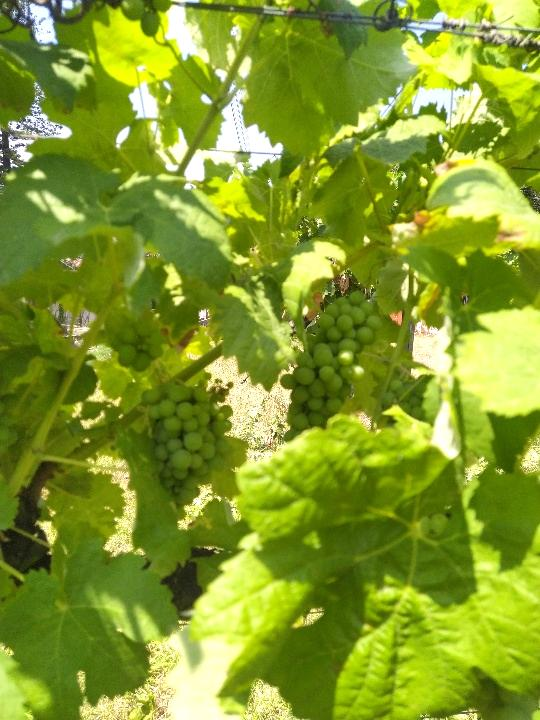grape: (277, 289, 385, 444), (138, 378, 235, 506)
